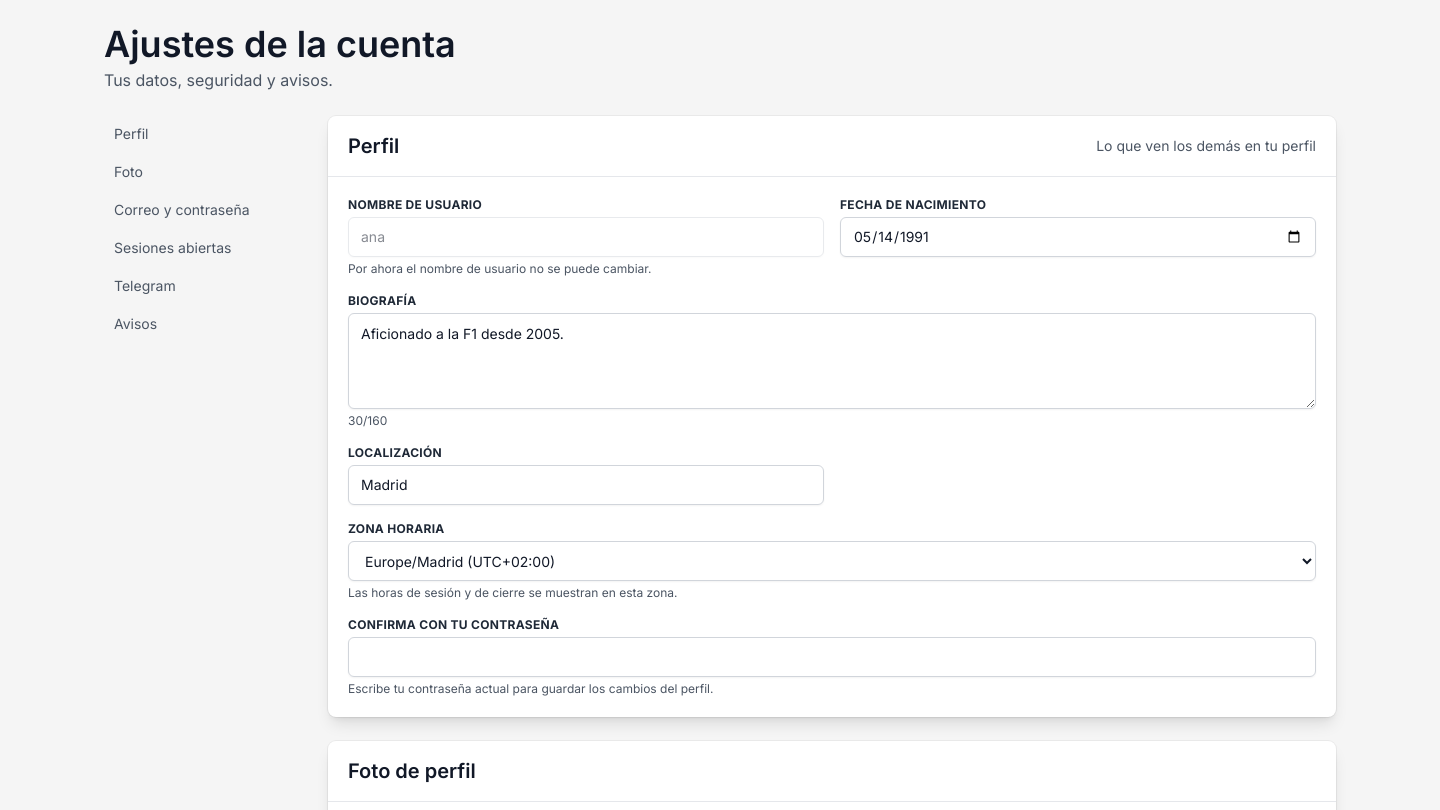
Test: Account settings (U3) › asks for the current password before saving profile changes
Replace the text in the field labelled "Localización" with "Sevilla". click: coordinates (586, 485)
box: [348, 465, 824, 505]
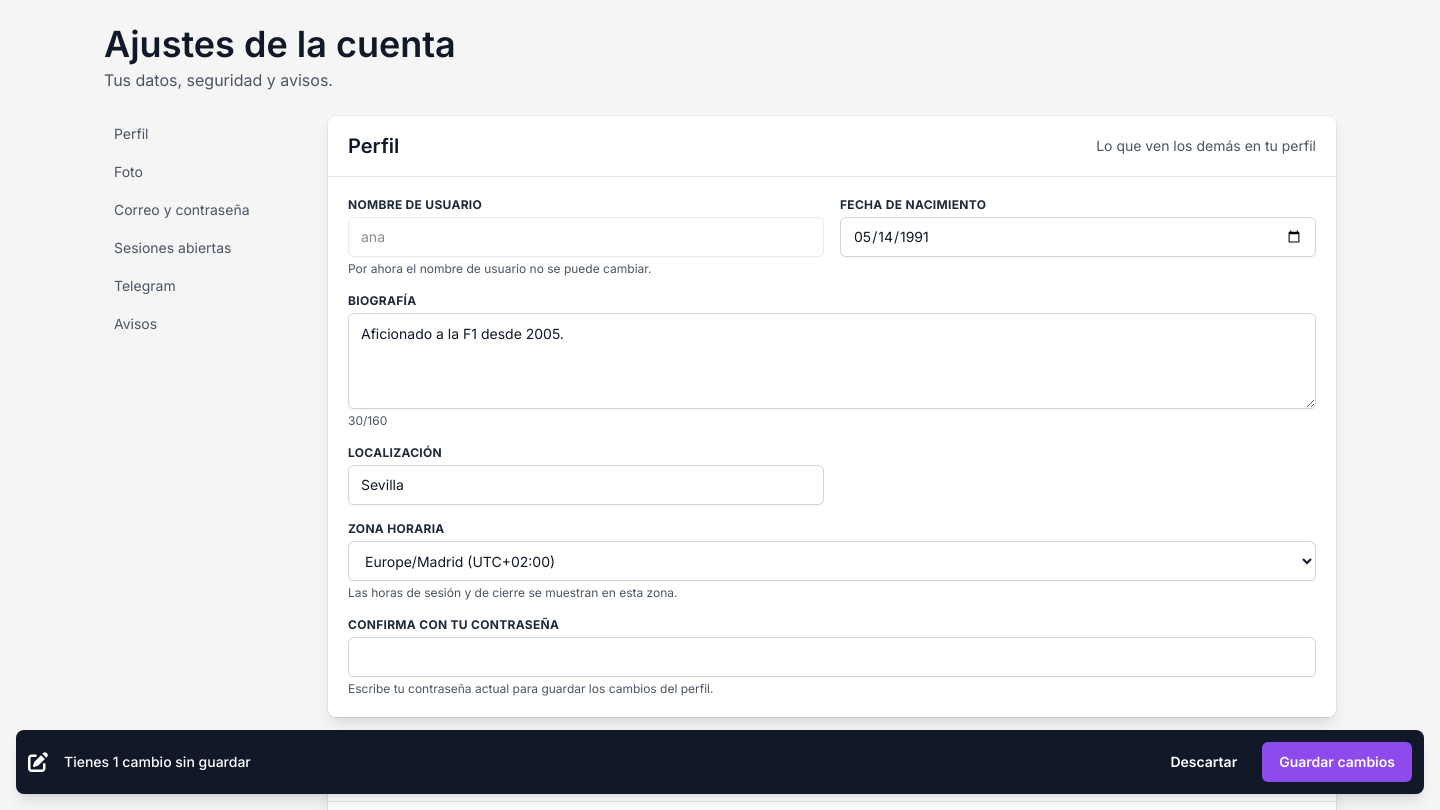
Click the button "Guardar cambios". click: coordinates (1337, 762)
box: [1262, 742, 1412, 782]
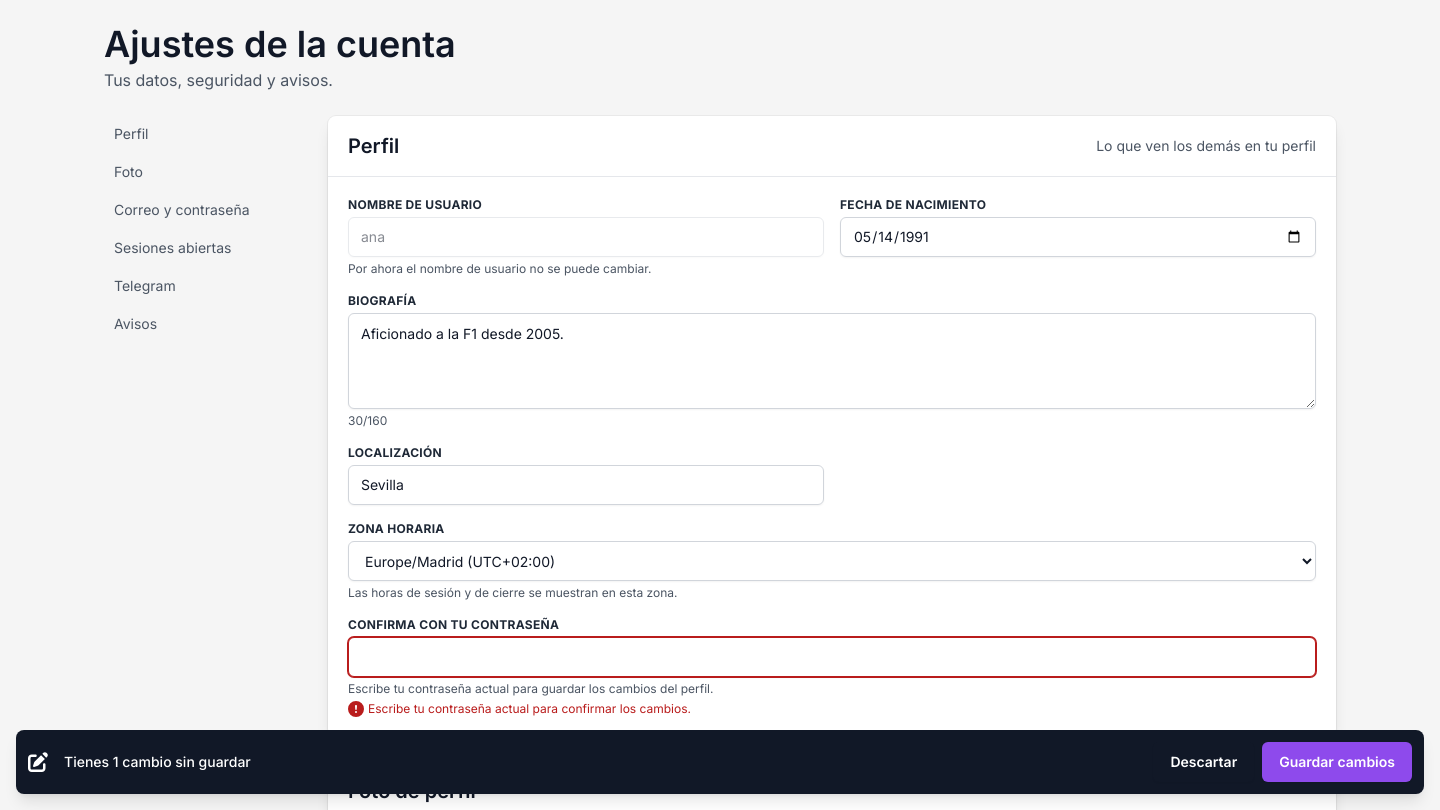
Now the text "Escribe tu contraseña actual para confirmar los cambios." is shown, box [368, 701, 691, 717]
